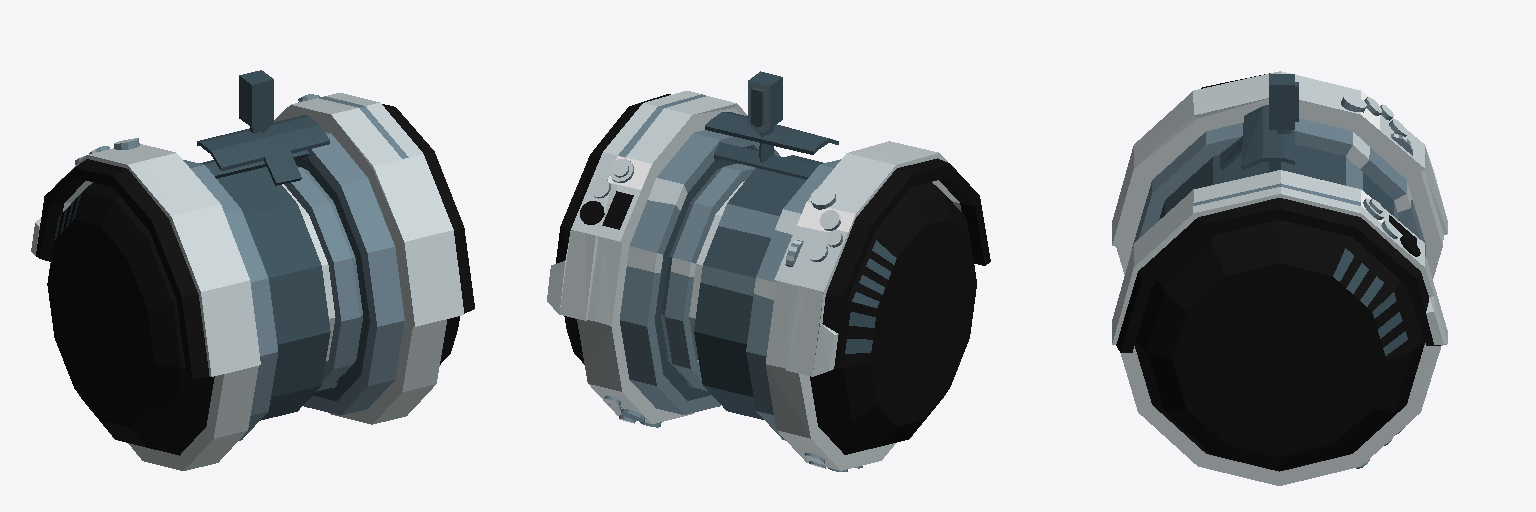
3 views of the same model, side by side, from view 1: azimuth 30°, elevation 25°; view 2: azimuth 150°, elevation 25°; view 3: azimuth 270°, elevation 25° (orthographic).
Parts seen in each view (by area): view 1: group[number redacted]; view 2: group[number redacted]; view 3: group[number redacted].
Boxes of the visible parts, x1,y1,x2,y2 form: group[number redacted]: [31, 70, 474, 470]; group[number redacted]: [547, 71, 990, 471]; group[number redacted]: [1112, 71, 1447, 485].
Size of the model in its own units: 0.8347 by 0.9107 by 0.7812.